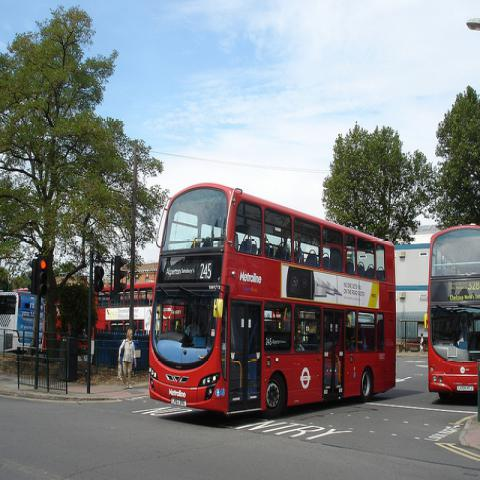bus: (148, 184, 480, 417), (100, 282, 154, 346), (1, 291, 46, 352)
